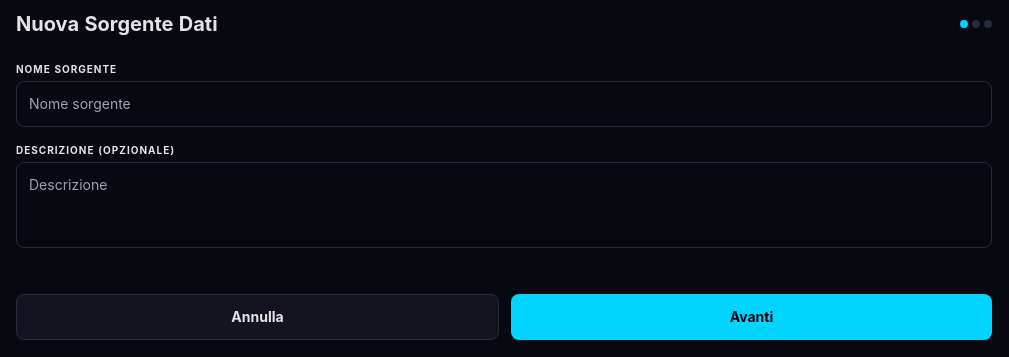
Test: DataSourceFormSlideOver › advances to step 2 on next click
Type "Test Source" into the field labelled "Nome Sorgente". click: [504, 104]
box: [16,81,992,127]
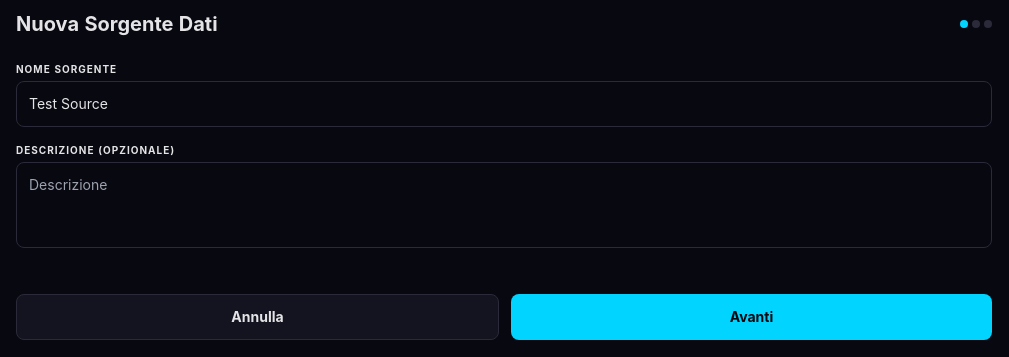
Click the button "Avanti". click: [752, 317]
box: [511,294,992,340]
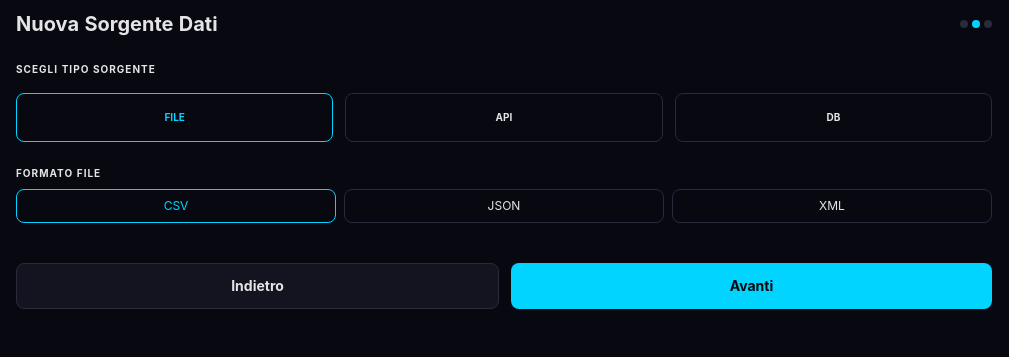
Expected: the text "Scegli Tipo Sorgente" is shown, [16,63,156,75]
